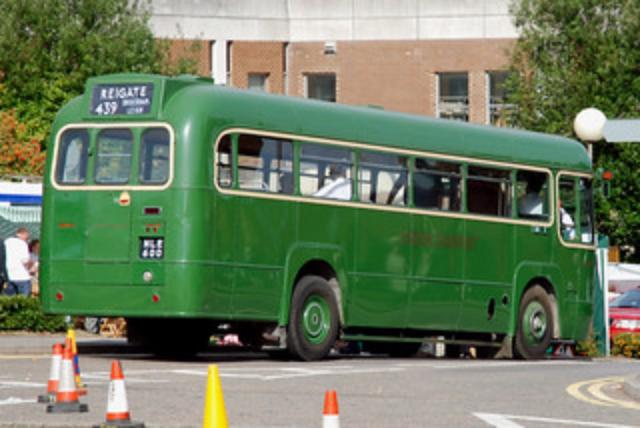bus: (38, 70, 598, 362)
